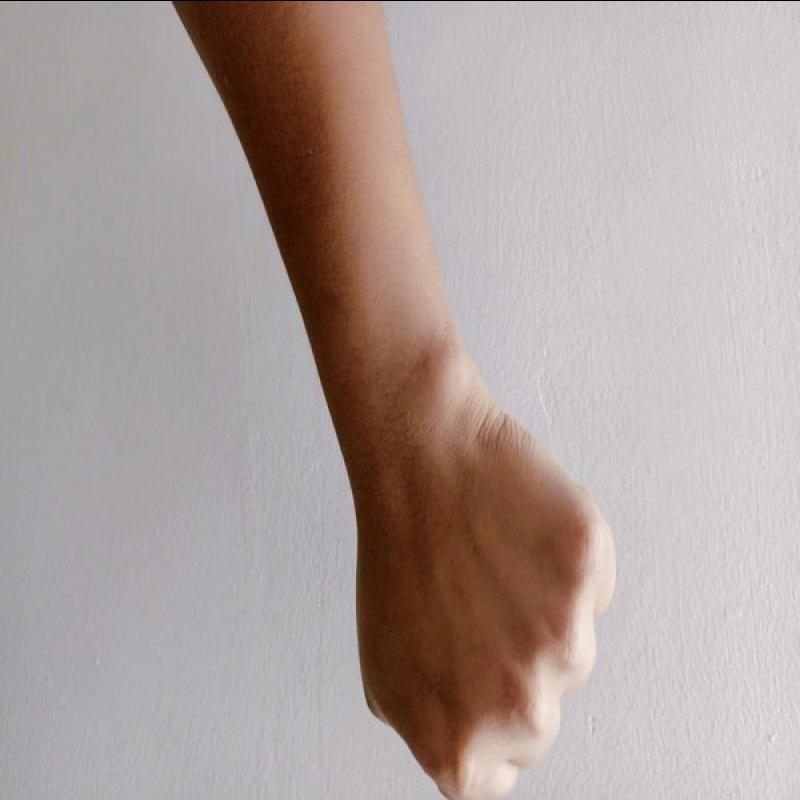Mushti: (340, 372, 635, 800)
